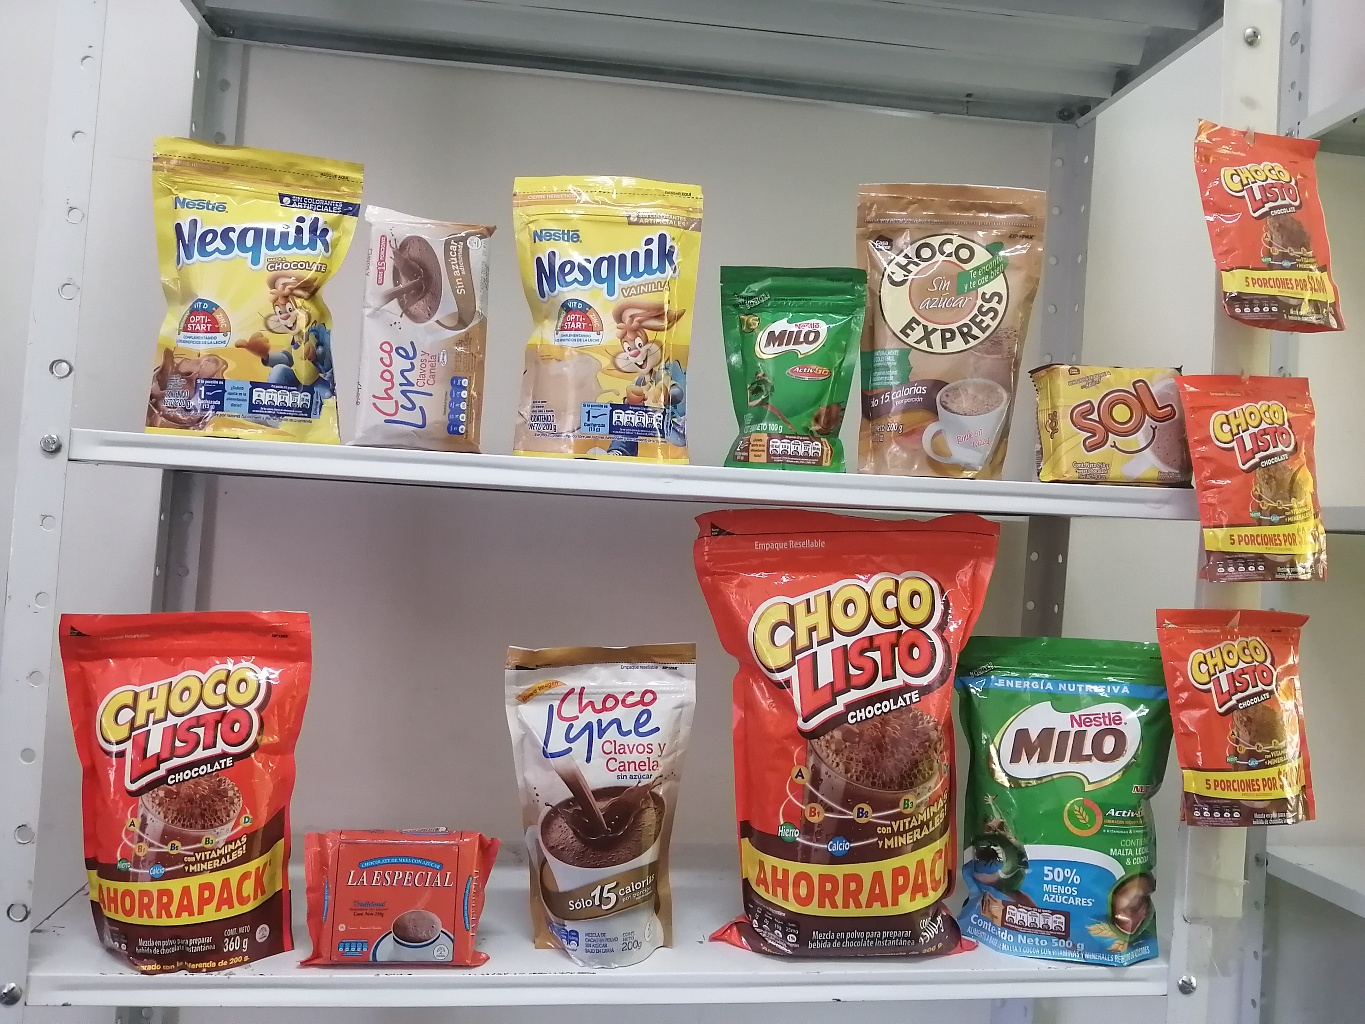COL0170103DYP1,500: (657, 485, 995, 969)
COL0170103DYP36000: (39, 591, 319, 989)
COL0170203DYP10000: (705, 234, 867, 477)
COL0170205DYP50000: (927, 611, 1189, 987)
COL0170303DYP20000: (123, 109, 355, 453)
COL0170306DYP20000: (499, 157, 709, 477)
